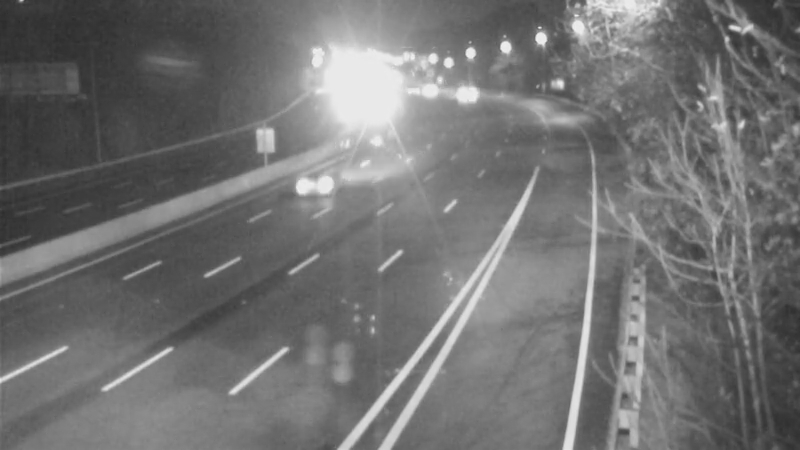vehicle: (277, 154, 357, 234)
